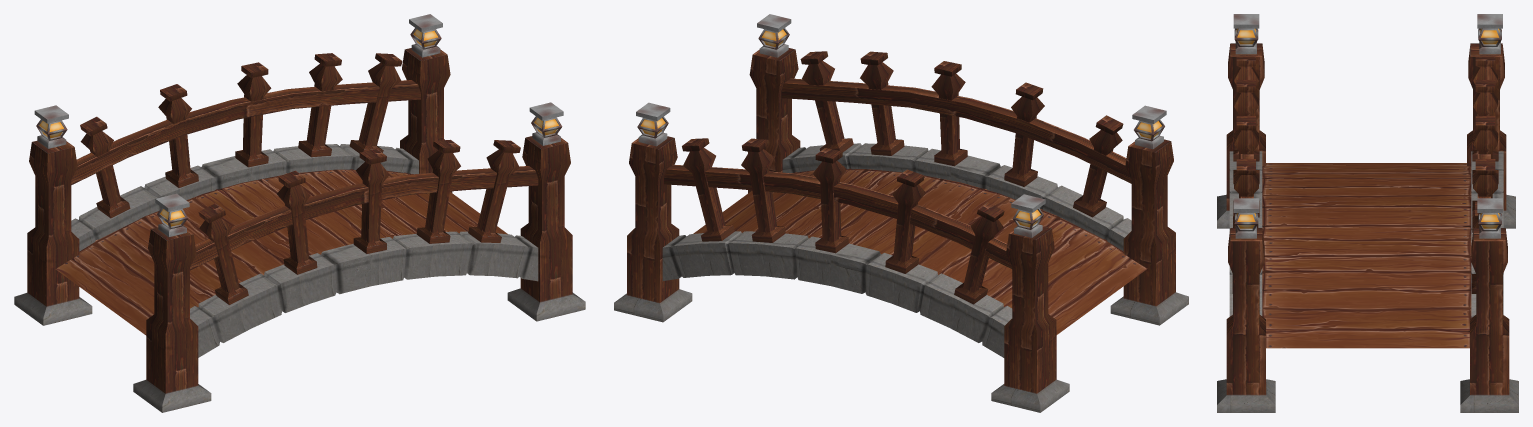
The model's file is Bridge.fbx.
3 renders of one model, left to right at view 1: azimuth 30°, elevation 25°; view 2: azimuth 150°, elevation 25°; view 3: azimuth 270°, elevation 25°, orthographic.
Visible parts, largest first — view 1: polySurface31, polySurface30, polySurface40, polySurface36, polySurface38, polySurface35, polySurface28, polySurface33, polySurface39, polySurface34, polySurface41, polySurface32 (+11 smaller); view 2: polySurface31, polySurface35, polySurface36, polySurface40, polySurface39, polySurface30, polySurface33, polySurface28, polySurface38, polySurface24, polySurface26, polySurface37 (+11 smaller); view 3: polySurface31, polySurface38, polySurface39, polySurface36, polySurface40, polySurface30, polySurface35, polySurface37, polySurface49, polySurface32, polySurface43, polySurface47 (+7 smaller).
Boxes of the visible parts, x1,y1,x2,y2 form: polySurface31: [55, 169, 507, 335]; polySurface30: [190, 231, 538, 357]; polySurface40: [133, 227, 211, 412]; polySurface36: [14, 141, 92, 325]; polySurface38: [507, 136, 585, 321]; polySurface35: [71, 144, 418, 251]; polySurface28: [71, 80, 420, 184]; polySurface33: [190, 166, 538, 270]; polySurface39: [400, 48, 452, 192]; polySurface34: [468, 140, 520, 242]; polySurface41: [416, 139, 460, 243]; polySurface32: [353, 149, 389, 253]; polySurface31: [693, 168, 1147, 334]; polySurface35: [662, 231, 1012, 357]; polySurface36: [991, 226, 1069, 412]; polySurface40: [1110, 139, 1188, 325]; polySurface39: [614, 136, 692, 322]; polySurface30: [782, 143, 1131, 251]; polySurface33: [781, 78, 1131, 183]; polySurface28: [664, 164, 1012, 268]; polySurface38: [748, 48, 800, 193]; polySurface24: [741, 138, 785, 242]; polySurface26: [682, 138, 734, 241]; polySurface37: [813, 148, 848, 253]; polySurface31: [1262, 163, 1471, 348]; polySurface38: [1217, 228, 1275, 412]; polySurface39: [1460, 228, 1518, 412]; polySurface36: [1467, 43, 1515, 228]; polySurface40: [1217, 43, 1265, 228]; polySurface30: [1229, 151, 1262, 316]; polySurface35: [1471, 151, 1503, 317]; polySurface37: [1472, 116, 1497, 215]; polySurface49: [1233, 14, 1259, 54]; polySurface32: [1233, 116, 1259, 217]; polySurface43: [1233, 198, 1259, 238]; polySurface47: [1477, 14, 1502, 54].
Size of the model in its own units: 86.61 by 38.19 by 52.98.
